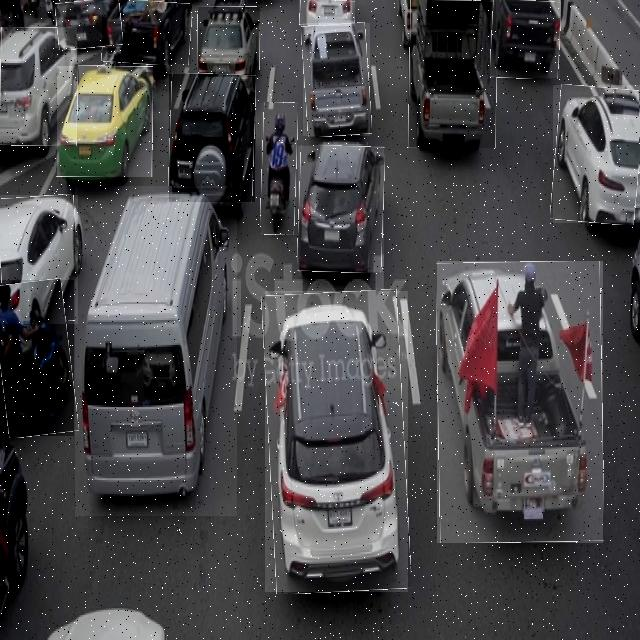Bus: (75, 186, 237, 516)
Car: (265, 291, 408, 592), (553, 85, 640, 223), (169, 74, 255, 202), (298, 146, 384, 272), (57, 66, 153, 177), (0, 195, 78, 324), (0, 27, 77, 145), (198, 7, 260, 77), (55, 0, 122, 48), (299, 0, 355, 26)
Motorcycle: (0, 280, 74, 436), (261, 103, 297, 235)
Truck: (437, 261, 603, 543), (408, 0, 496, 148), (303, 23, 370, 136), (102, 0, 191, 64), (490, 0, 560, 78)
